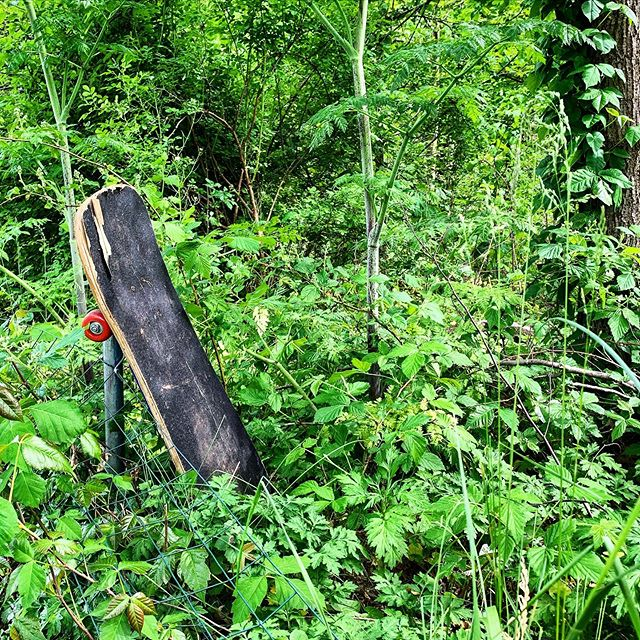skateboard: (61, 188, 300, 517)
vegetation: (1, 1, 634, 629)
